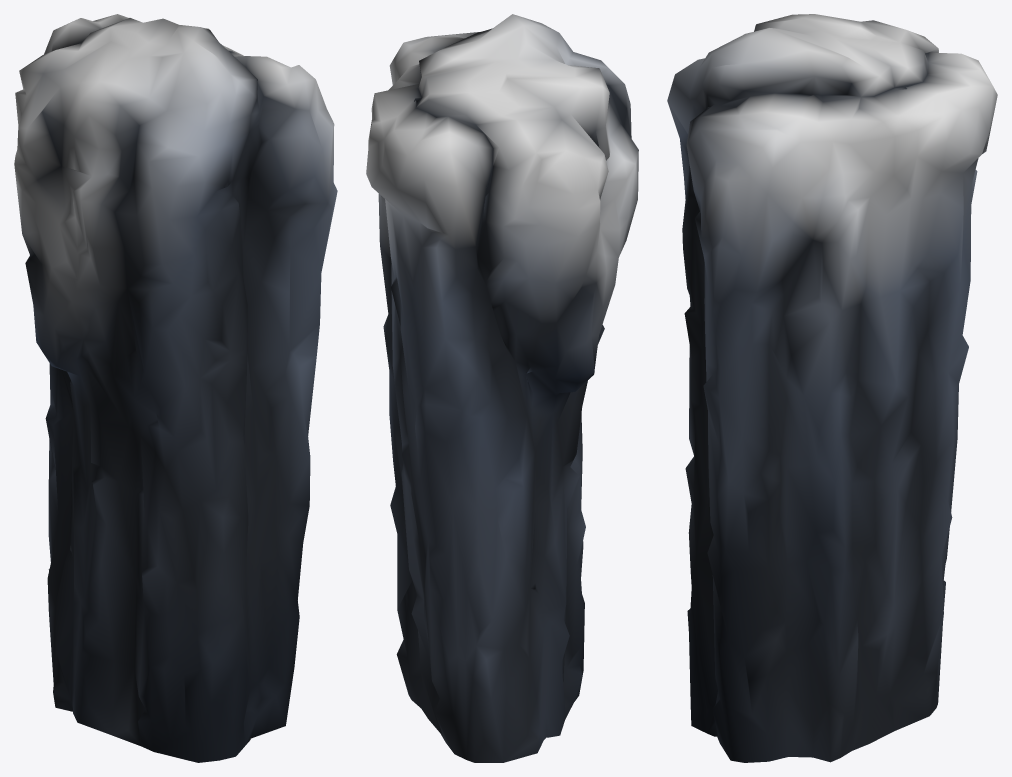
File: GroundFracPiece_M_New.fbx
The picture shows the model from 3 angles, left to right: view 1: azimuth 30°, elevation 25°; view 2: azimuth 150°, elevation 25°; view 3: azimuth 270°, elevation 25°; orthographic projection. The views are drawn at different scales.
Visible parts, largest first — view 1: Object6; view 2: Object6; view 3: Object6.
Boxes of the visible parts, x1=… form: Object6: x1=14, y1=14, x2=337, y2=762; Object6: x1=366, y1=14, x2=638, y2=762; Object6: x1=667, y1=14, x2=997, y2=762.
Bounding box in the file's own units: 210 × 229 × 529.
